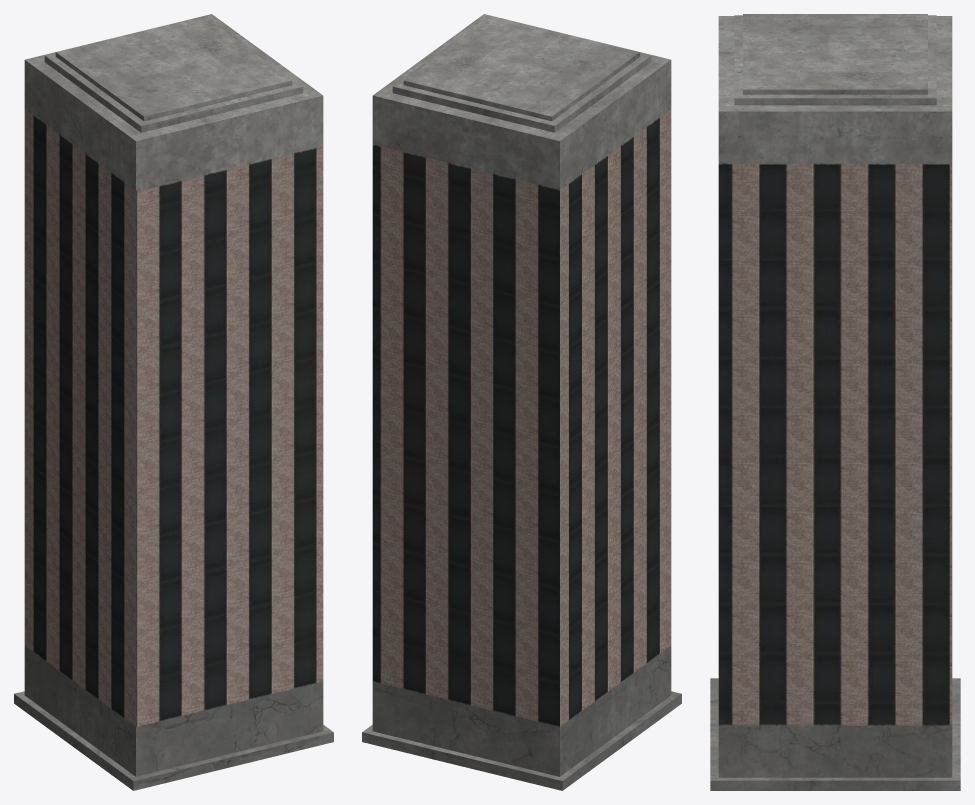
Rendered from la-tower-a.glb.
3 renders of one model, left to right at view 1: azimuth 30°, elevation 25°; view 2: azimuth 150°, elevation 25°; view 3: azimuth 270°, elevation 25°, orthographic. The views are drawn at different scales.
Visible parts, largest first — view 1: tower-a; view 2: tower-a; view 3: tower-a.
Part boxes in pixels (bbox=[...]): tower-a: bbox=[14, 14, 333, 790]; tower-a: bbox=[362, 14, 681, 790]; tower-a: bbox=[710, 14, 960, 790].
Size of the model in its own units: 39.94 by 125 by 41.18.
1 material, 1 textured.
